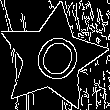O_SW: (21, 25, 83, 91)
